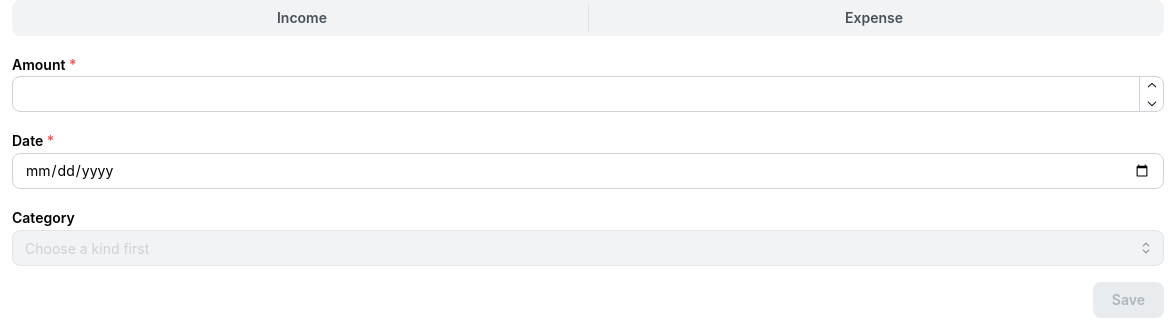
Test case: TransactionForm › disables the category picker until a Type is chosen
The image size is (1176, 335).
Expected: the field labelled "Category" is disabled, [12,230,1164,266]
Click the text "Expense": (874, 18) [845,9,903,26]
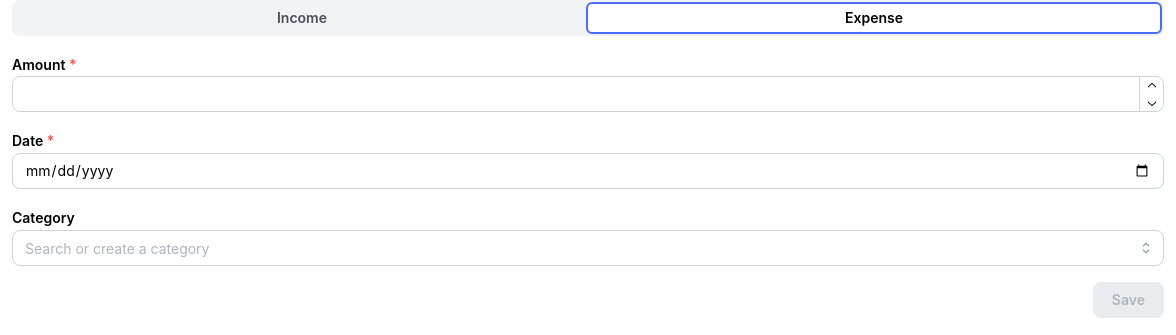
Result: the field labelled "Category" is enabled at [12,230,1164,266]
